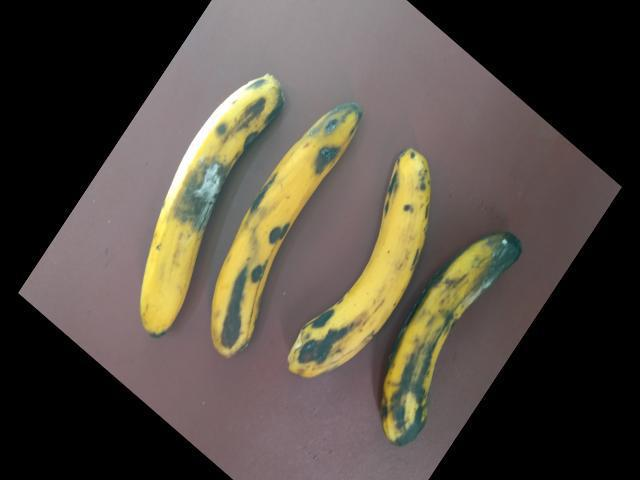ripe: (208, 98, 368, 374), (285, 137, 445, 390)
rotten: (126, 46, 287, 337), (368, 227, 528, 470)
